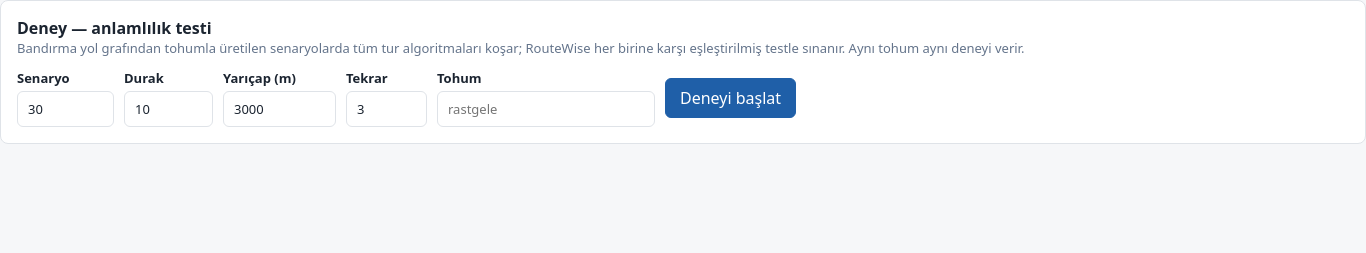
it: ExperimentSection (deney) › should start an experiment with the chosen parameters and show its progress
The image size is (1366, 253).
Replace the text in the number field labelled "Senaryo" with "40". click: (66, 109)
box: [17,91,114,127]
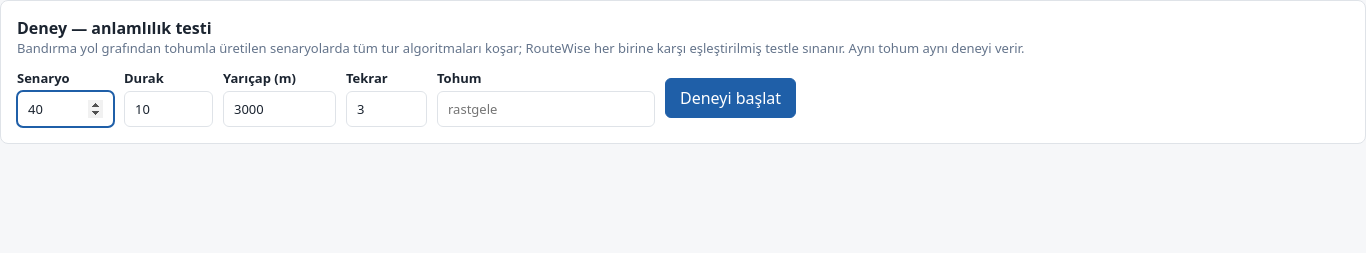
Type "20a26" into the field labelled "Tohum". click: (546, 109)
box: [437,91,655,127]
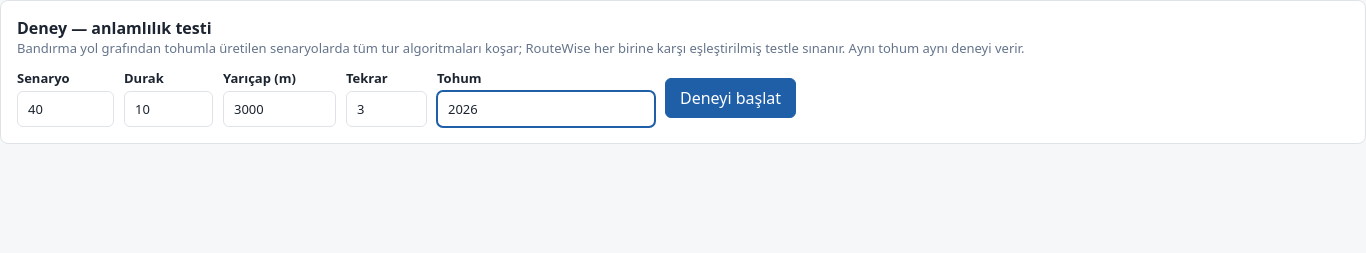
Click the button "Deneyi başlat". click: (731, 98)
box: [665,78,796,118]
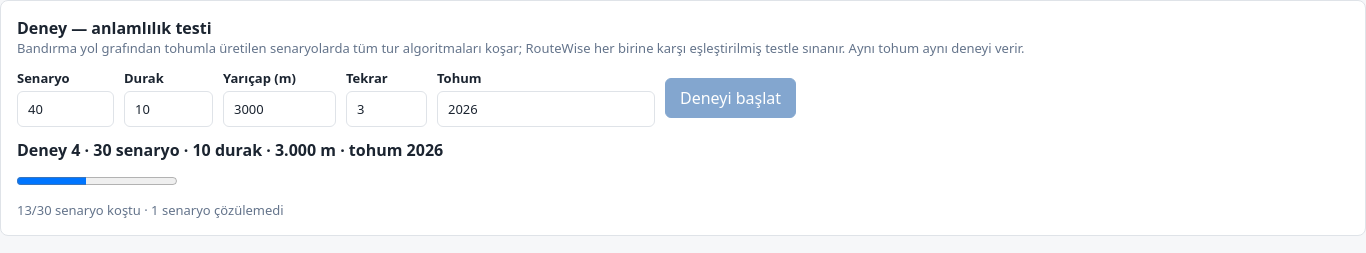
Expected: the message reads "13/30 senaryo koştu · 1 senaryo çözülemedi", [17,201,284,219]
Expected: the button "Deneyi başlat" is disabled, [665,78,796,118]
